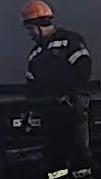gloves: (73, 87, 95, 123)
helmet: (20, 0, 54, 23)
vest: (22, 27, 93, 118)
